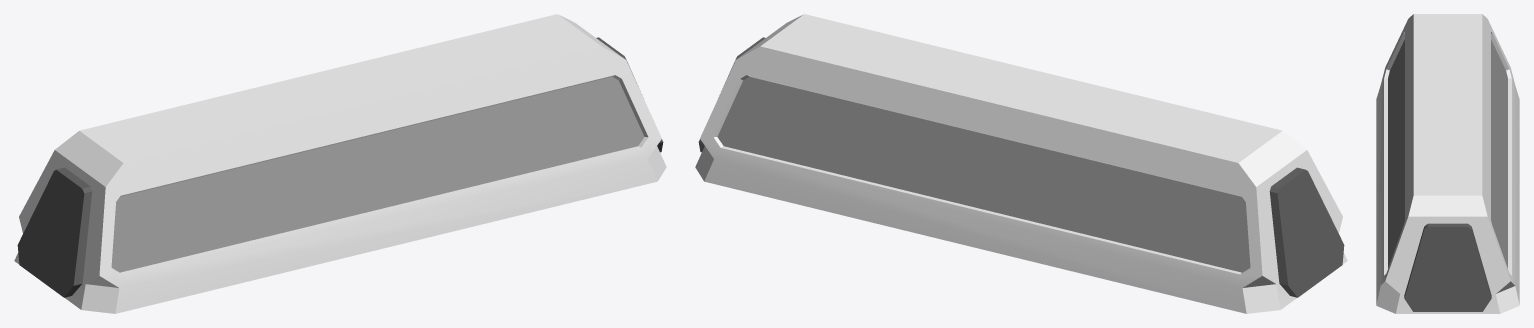
Rendered from space_station_021.fbx.
The picture shows the model from 3 angles, left to right: view 1: azimuth 30°, elevation 25°; view 2: azimuth 150°, elevation 25°; view 3: azimuth 270°, elevation 25°; orthographic projection. The views are drawn at different scales.
Parts seen in each view (by area): view 1: space_station_021; view 2: space_station_021; view 3: space_station_021.
Part boxes in pixels (<box>): space_station_021: <box>14,14,666,313</box>; space_station_021: <box>695,14,1347,313</box>; space_station_021: <box>1376,14,1519,313</box>.
Bounding box in the file's own units: 2660 × 710 × 534.
